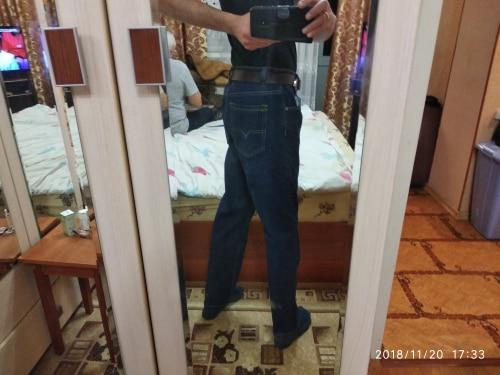jeans: (211, 61, 302, 305)
